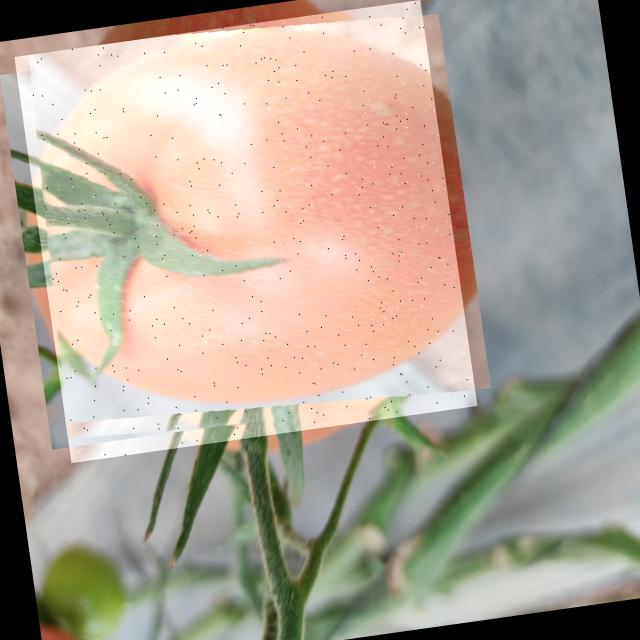Ripe Tomato: (15, 0, 478, 463)
